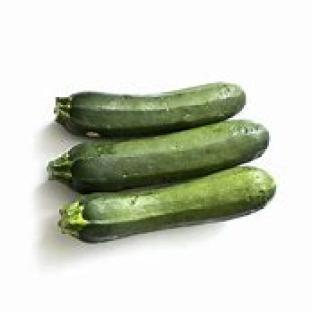Zucchini: (60, 167, 276, 242), (49, 120, 268, 192), (56, 84, 245, 136)
